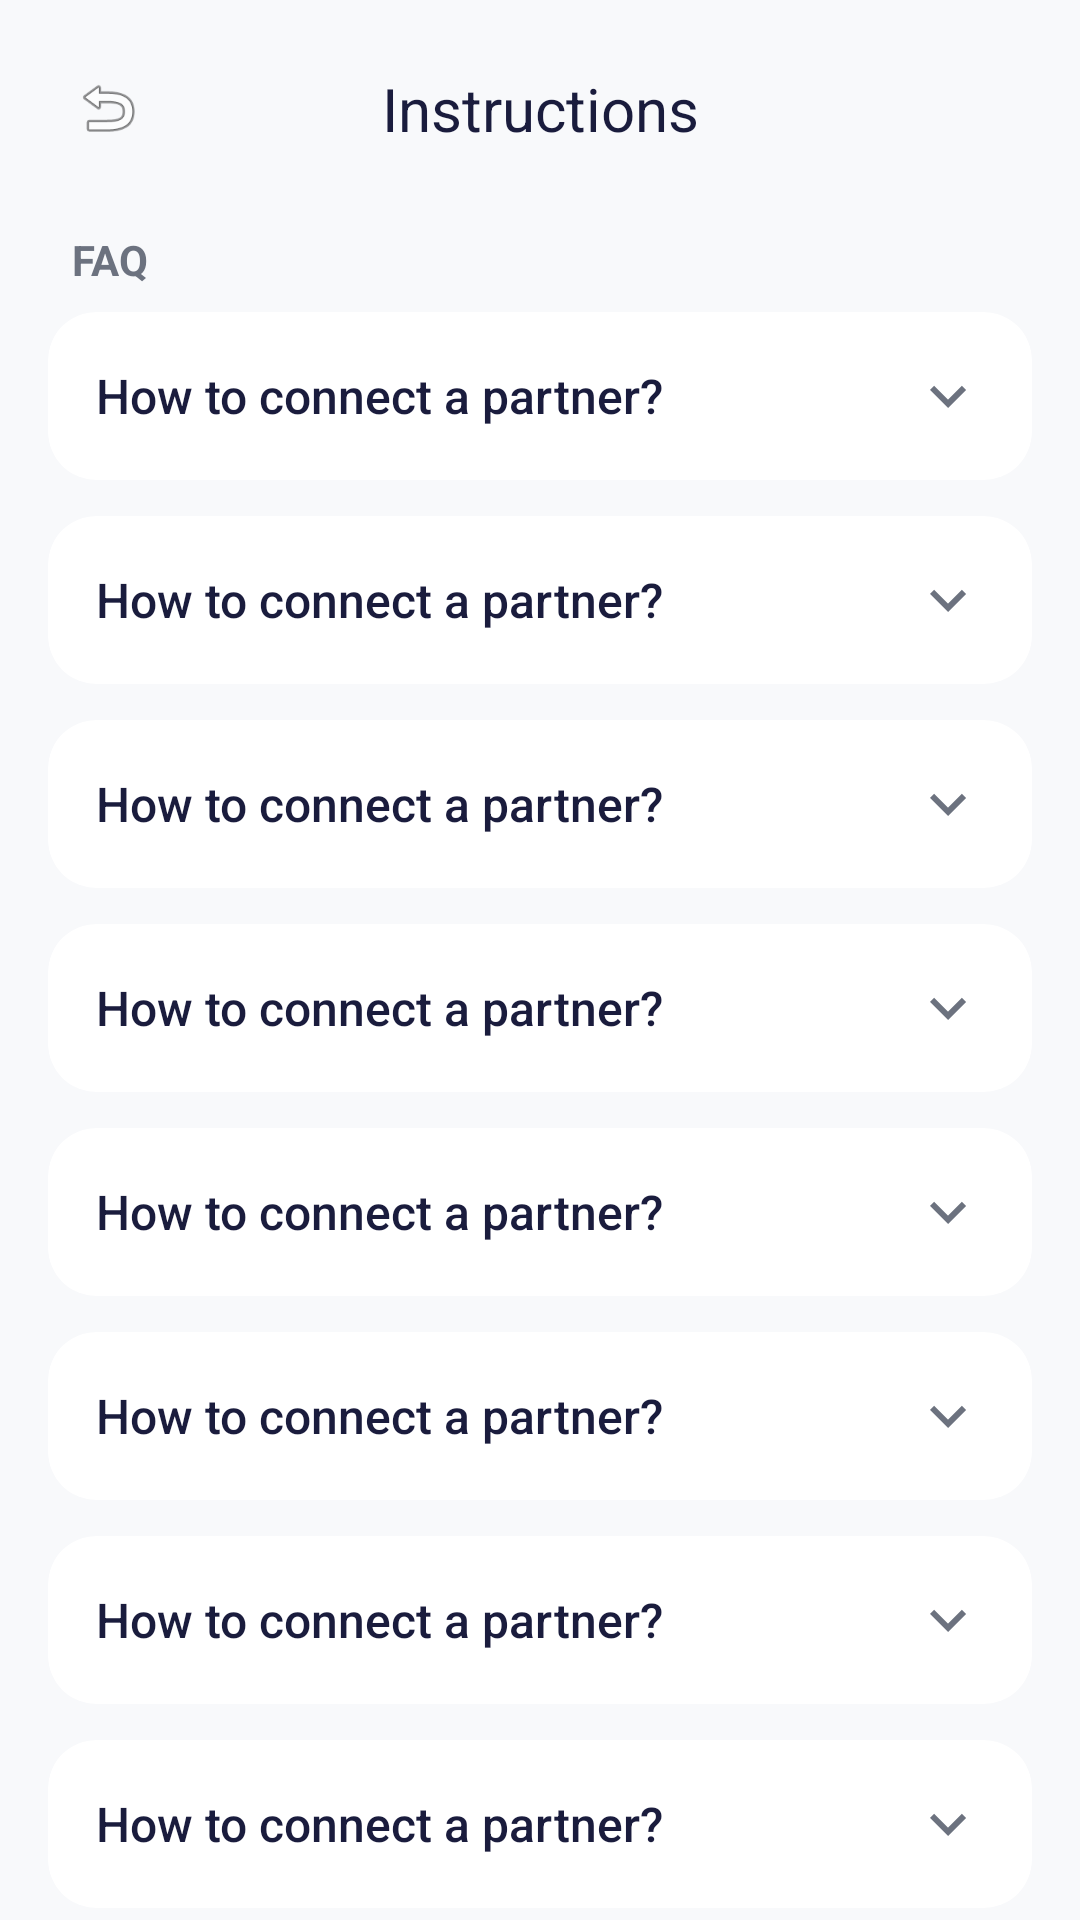

Locate icon controls on the screen. Image size 1080 x 1920, boxes as (x1, y1, x2, y2).
arrow down: (930, 386, 966, 408), (930, 590, 966, 612), (930, 794, 966, 816), (930, 998, 966, 1020), (930, 1202, 966, 1224), (930, 1406, 966, 1428), (930, 1610, 966, 1632), (930, 1814, 966, 1836)
revert: (83, 85, 135, 132)
